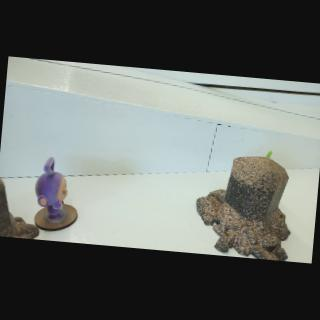teletubby: (35, 157, 68, 219), (266, 151, 272, 159)
